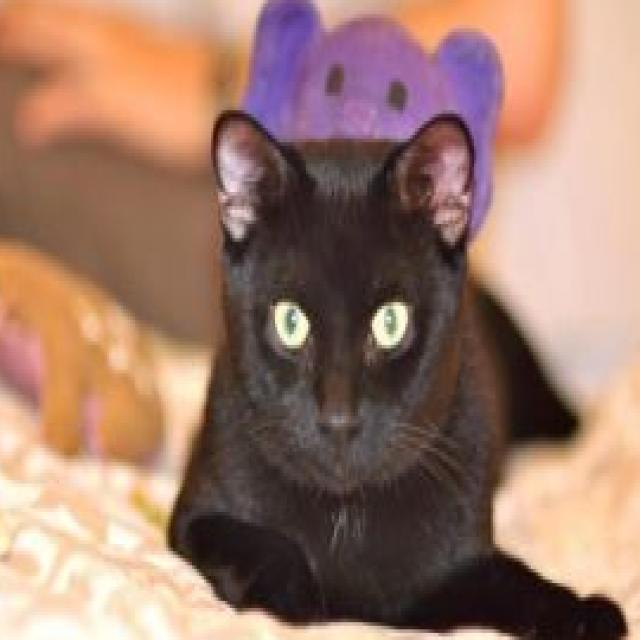Bombay: (163, 99, 630, 640)
